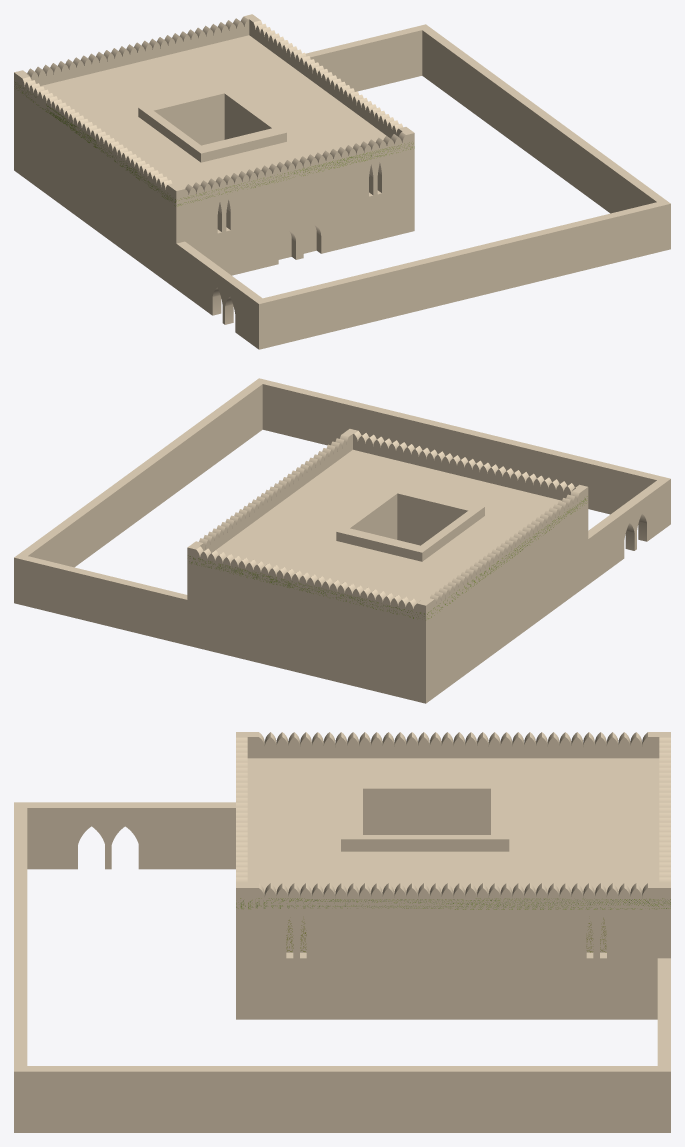
File: Fechtschule.dae
3 renders of one model, top to bottom at view 1: azimuth 30°, elevation 25°; view 2: azimuth 150°, elevation 25°; view 3: azimuth 270°, elevation 25°, orthographic. The views are drawn at different scales.
Visible parts, largest first — view 1: Model; view 2: Model; view 3: Model.
Part boxes in pixels (x1=…): Model: x1=14, y1=14, x2=670, y2=349; Model: x1=14, y1=378, x2=670, y2=703; Model: x1=14, y1=732, x2=670, y2=1132.
Size of the model in its own units: 54.06 by 55.71 by 12.3.
